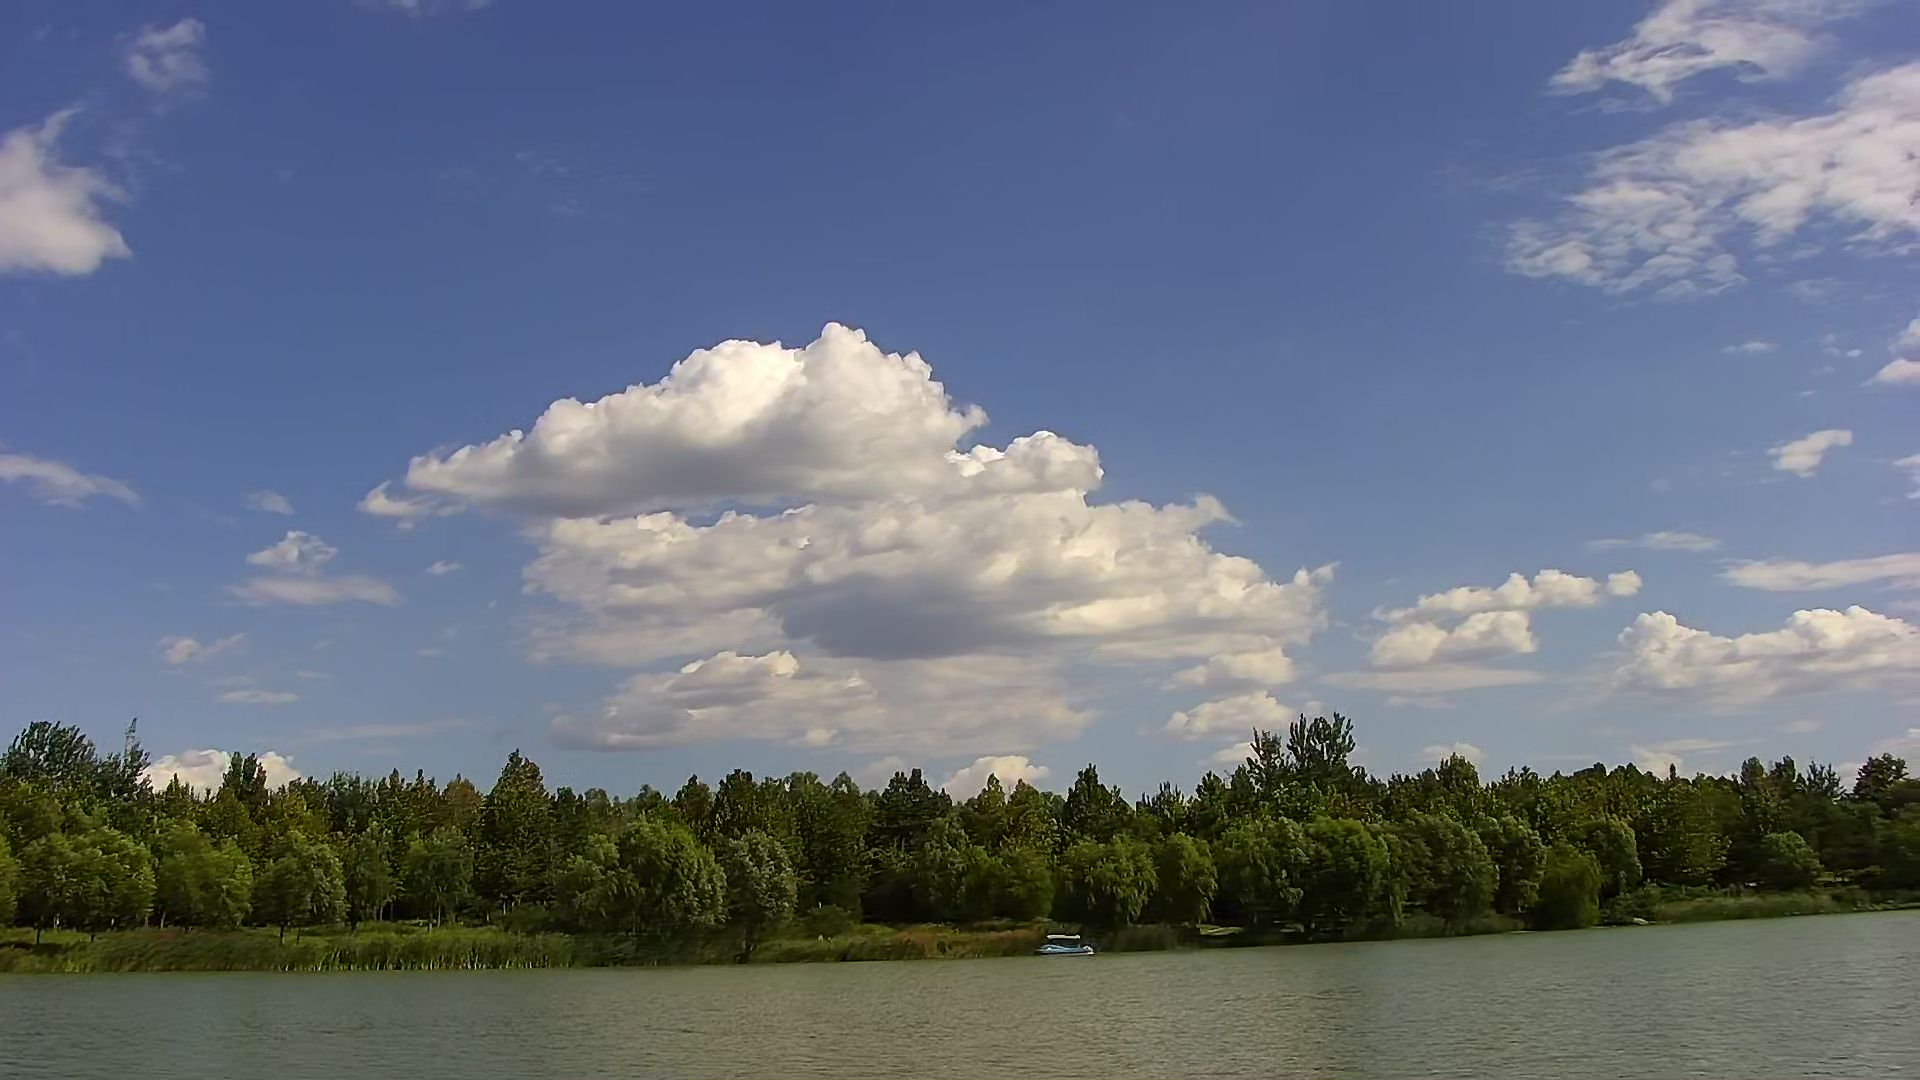boat: (1038, 926, 1096, 963)
